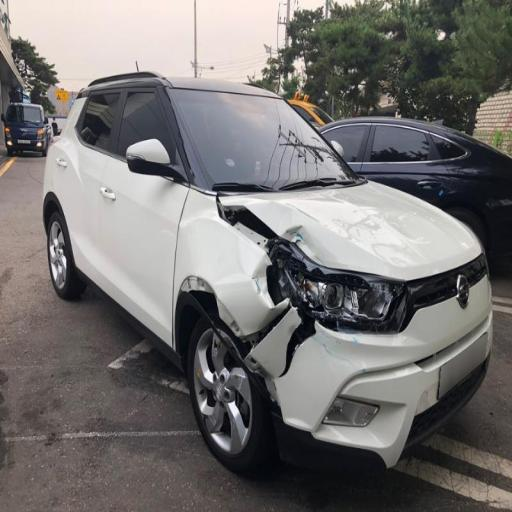broken: (202, 160, 436, 444)
